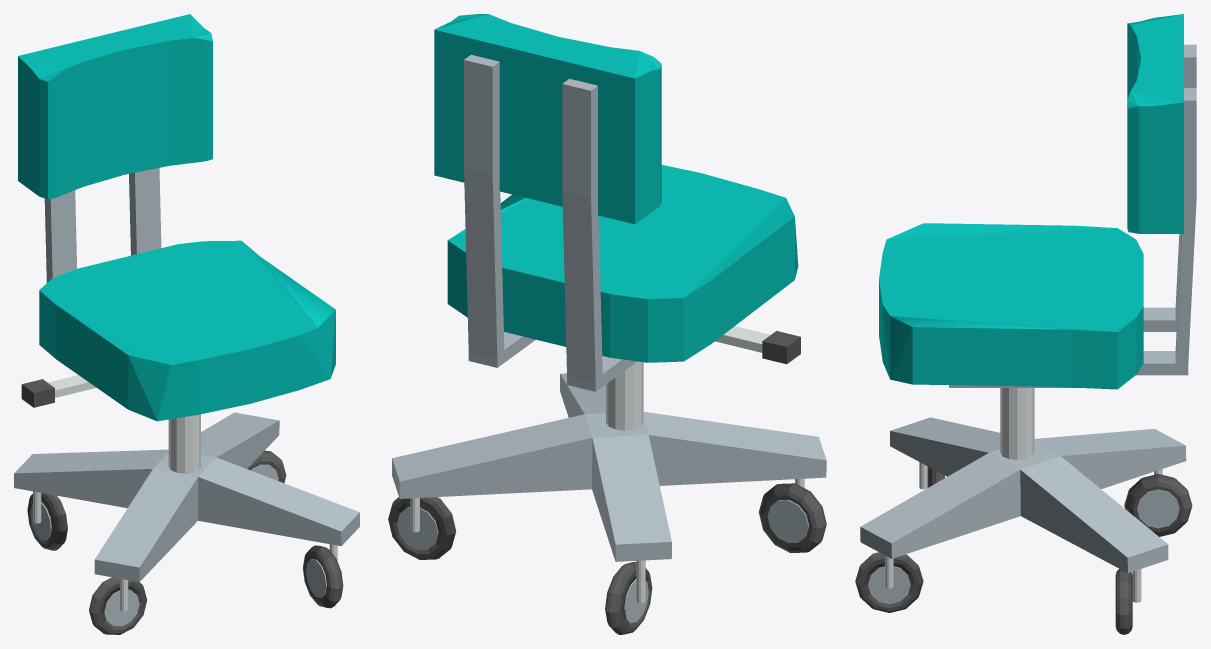
File: chair.fbx
3 renders of one model, left to right at view 1: azimuth 30°, elevation 25°; view 2: azimuth 150°, elevation 25°; view 3: azimuth 270°, elevation 25°, orthographic. The views are drawn at different scales.
Parts seen in each view (by area): view 1: group1245598860, group1058027361, group646429156, group1933021004, group772163389, group173738516, group2136273154, group1306767648, group1994826846, group2011453973, group1665730989, group1207590718; view 2: group1245598860, group646429156, group1058027361, group173738516, group772163389, group1933021004, group1665730989, group1306767648, group1994826846, group2011453973, group1740633080, group365807116 (+1 smaller); view 3: group1245598860, group646429156, group1058027361, group772163389, group2136273154, group1306767648, group1994826846, group1665730989, group365807116, group1740633080, group173738516.
Boxes of the visible parts, box(x1,y1,x2,y2) form: group1245598860: box(39, 240, 335, 421); group1058027361: box(18, 14, 212, 199); group646429156: box(14, 412, 359, 581); group1933021004: box(89, 577, 146, 634); group772163389: box(129, 168, 161, 255); group173738516: box(44, 190, 76, 282); group2136273154: box(303, 544, 343, 608); group1306767648: box(27, 491, 67, 550); group1994826846: box(168, 414, 200, 473); group2011453973: box(21, 379, 54, 407); group1665730989: box(247, 450, 286, 482); group1207590718: box(48, 375, 96, 397); group1245598860: box(447, 165, 798, 362); group646429156: box(392, 373, 826, 561); group1058027361: box(434, 14, 661, 224); group173738516: box(562, 78, 602, 383); group772163389: box(464, 54, 504, 359); group1933021004: box(758, 478, 826, 552); group1665730989: box(388, 497, 456, 559); group1306767648: box(605, 560, 652, 634); group1994826846: box(606, 361, 643, 430); group2011453973: box(762, 331, 800, 364); group1740633080: box(567, 356, 636, 391); group365807116: box(468, 332, 535, 367); group1245598860: box(879, 223, 1143, 389); group646429156: box(860, 417, 1186, 572); group1058027361: box(1127, 14, 1183, 233); group772163389: box(1175, 88, 1196, 367); group2136273154: box(855, 552, 923, 612); group1306767648: box(1124, 469, 1192, 536); group1994826846: box(1000, 388, 1034, 459); group1665730989: box(1115, 569, 1141, 634); group365807116: box(1136, 351, 1188, 375); group1740633080: box(1143, 307, 1176, 331); group173738516: box(1175, 44, 1196, 324).
Bounding box in the file's own units: 86 × 133 × 80.
